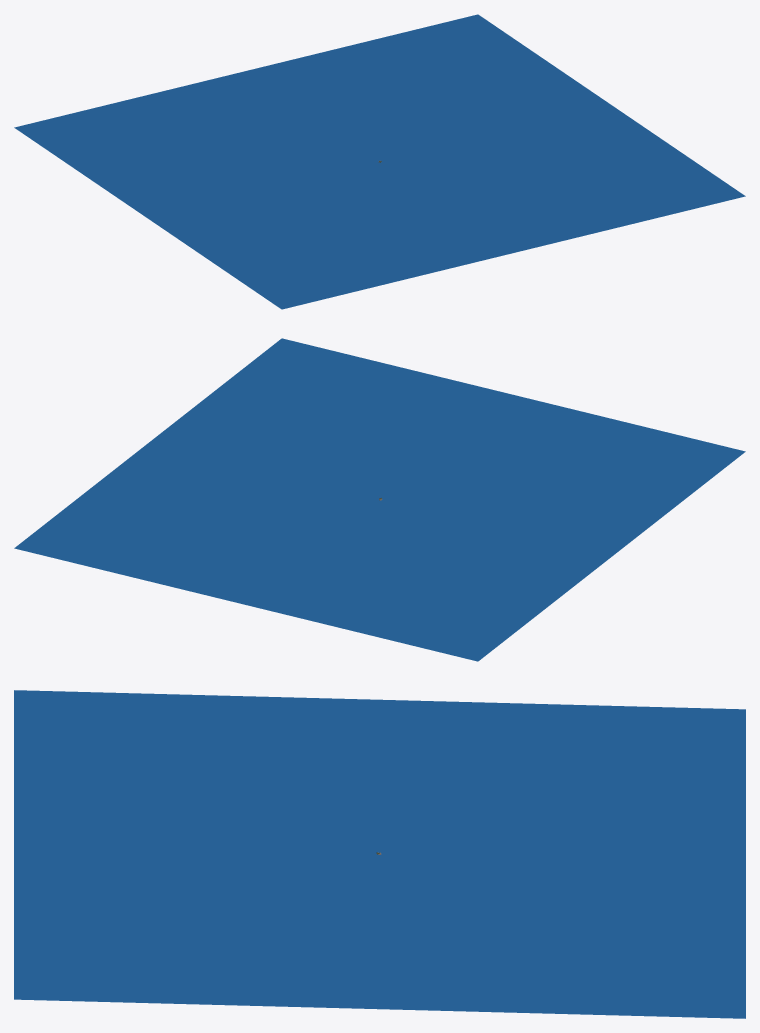
The model's file is Fortress_v5.glb.
3 renders of one model, top to bottom at view 1: azimuth 30°, elevation 25°; view 2: azimuth 150°, elevation 25°; view 3: azimuth 270°, elevation 25°, orthographic. The views are drawn at different scales.
Visible parts, largest first — view 1: Water; view 2: Water; view 3: Water.
Part boxes in pixels (<box>): Water: <box>14,14,745,309</box>; Water: <box>14,338,745,661</box>; Water: <box>14,690,745,1018</box>.
Size of the model in its own units: 16517 by 478 by 16510.
Materials: 50 (25 with a texture image).
